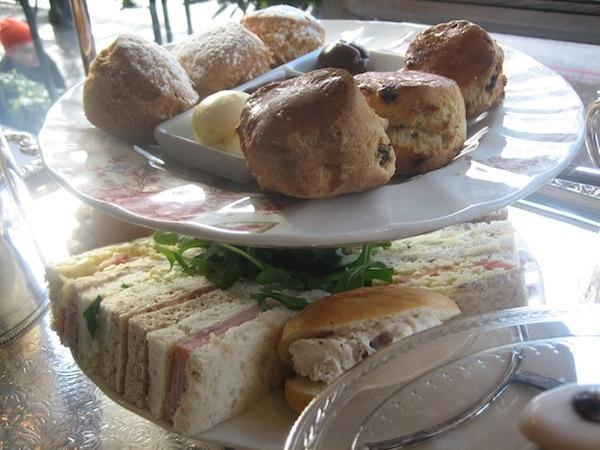tomato: (375, 268, 458, 286), (99, 252, 144, 268), (470, 260, 517, 270)
